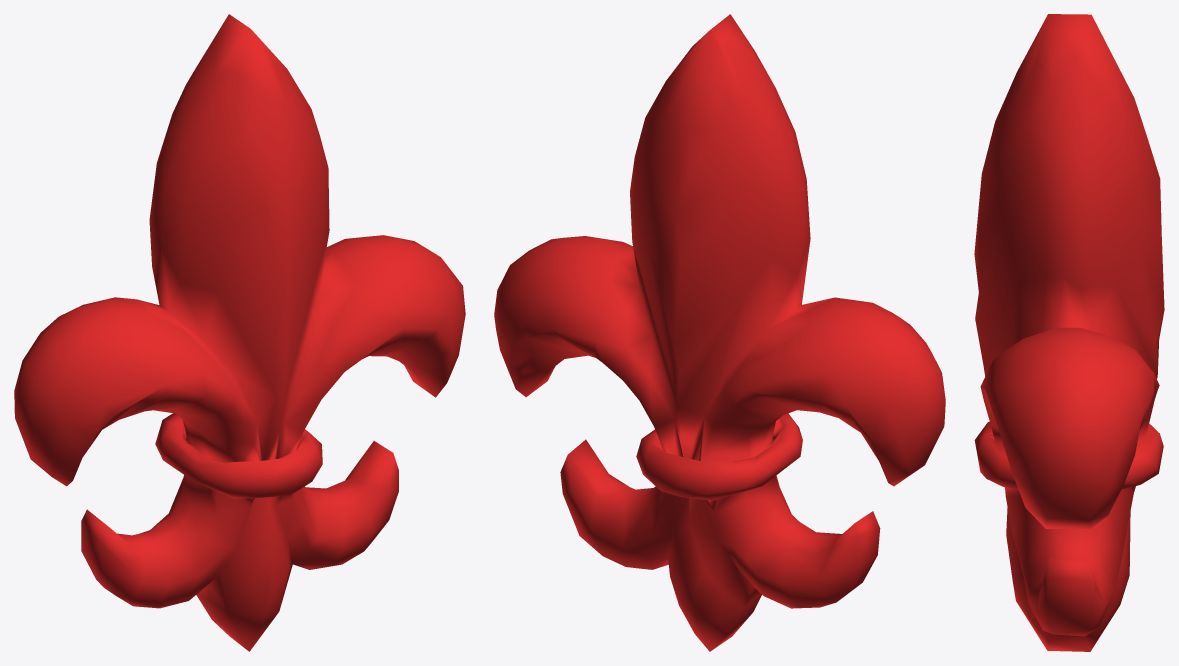
The model's file is SM_SmallOrnament_A_002.FBX.
The picture shows the model from 3 angles, left to right: view 1: azimuth 30°, elevation 25°; view 2: azimuth 150°, elevation 25°; view 3: azimuth 270°, elevation 25°; orthographic projection. The views are drawn at different scales.
Parts seen in each view (by area): view 1: SM_SmallOrnament_A_002; view 2: SM_SmallOrnament_A_002; view 3: SM_SmallOrnament_A_002.
Boxes of the visible parts, x1,y1,x2,y2 form: SM_SmallOrnament_A_002: [14, 14, 465, 651]; SM_SmallOrnament_A_002: [494, 14, 945, 651]; SM_SmallOrnament_A_002: [974, 14, 1164, 651].
Size of the model in its own units: 155 by 211 by 56.9.
